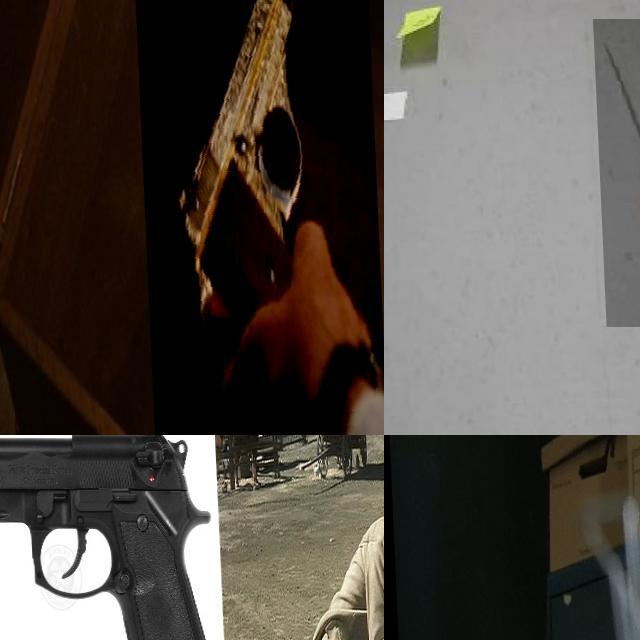-: (592, 18, 640, 327)
gun-knife-thesis - v11 Yolov5 augmented: (132, 0, 384, 435), (0, 435, 216, 640), (503, 435, 623, 548), (1, 435, 81, 492)
